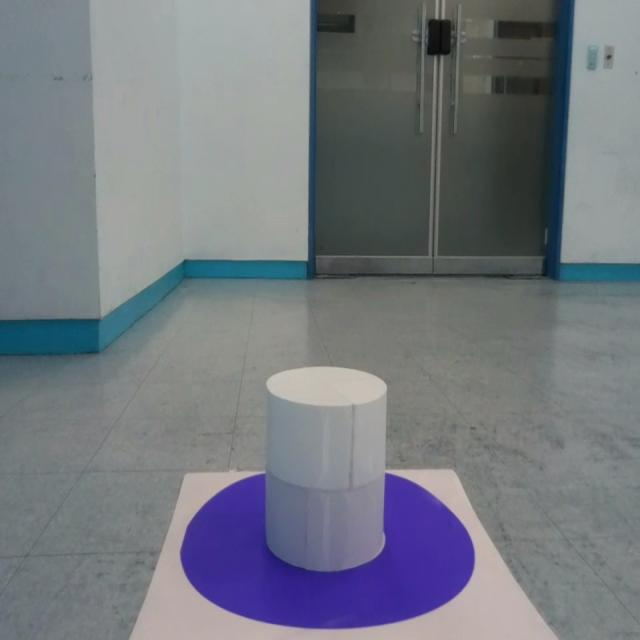cylinder: (264, 367, 388, 572)
